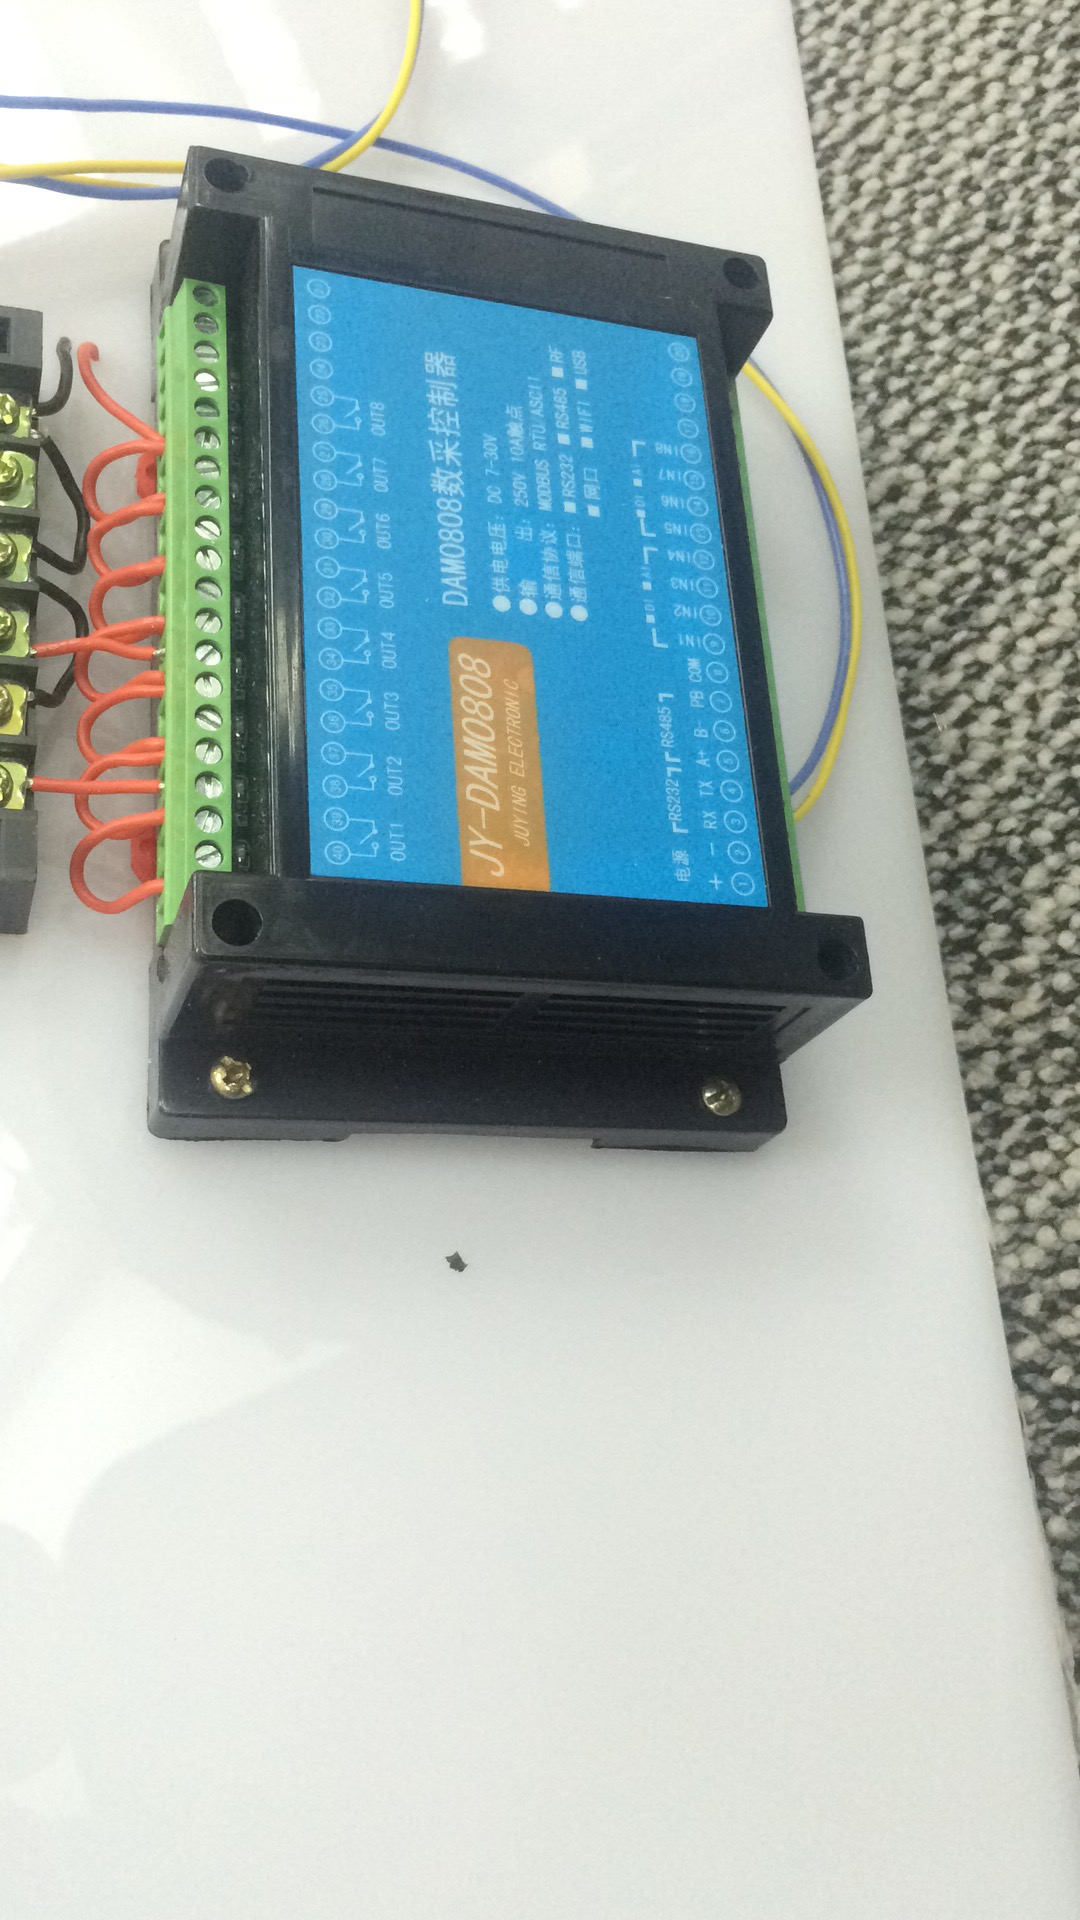relay: (131, 146, 818, 1158)
